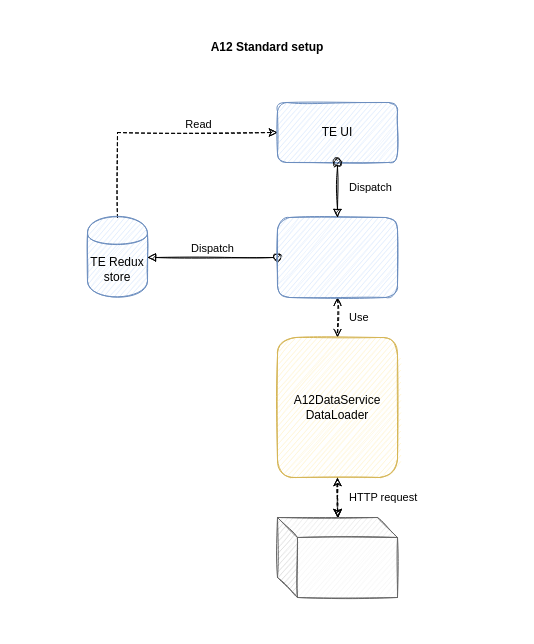
This 534x644 diagram has some shape labels left out. The centre of each missing label's shape, as x and y in pixels:
"A12 Data Services" belongs at (337,557).
"TE Data Provider" belongs at (337,257).
